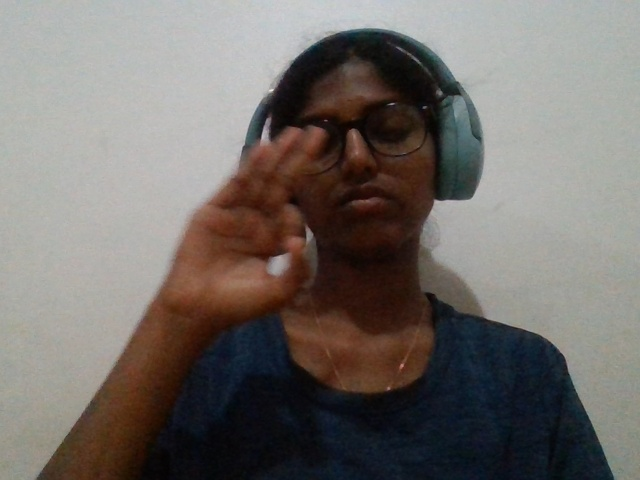F: (126, 109, 348, 393)
